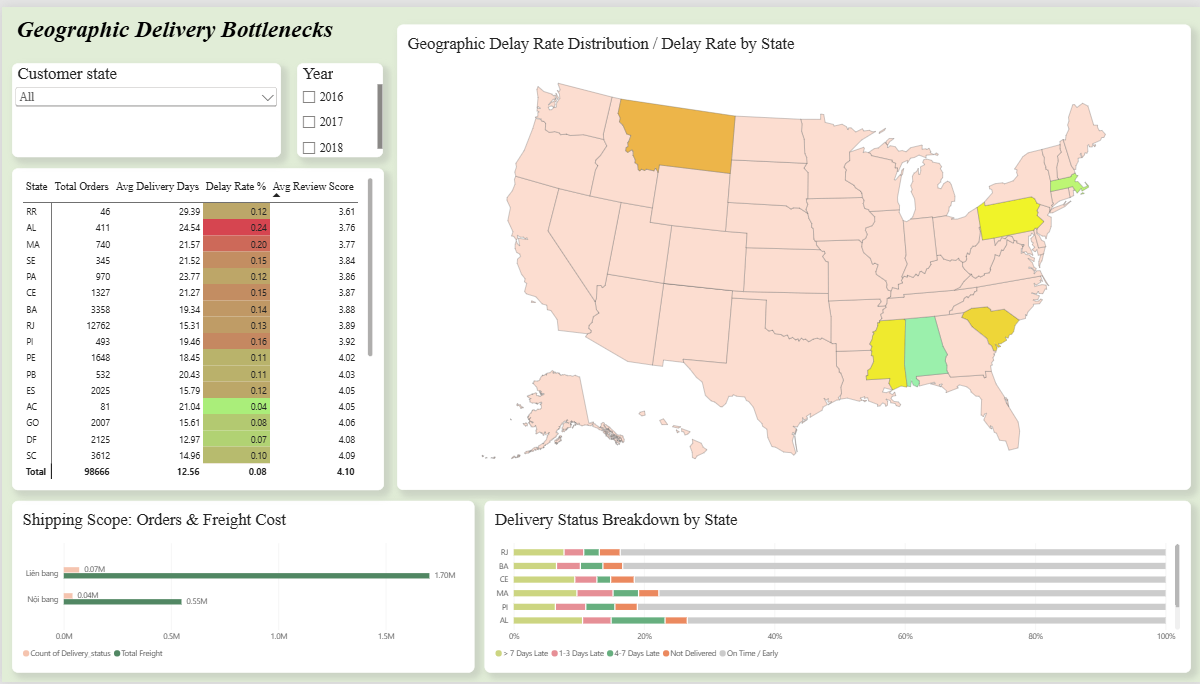

What the dashboard file says about the page in this screenshot:
{"tool":"powerbi","page":{"name":"2. Logistics & Geography","canvas":[1920,1080],"ordinal":1},"visuals":[{"type":"textbox","box":[14.3,14.3,595.9,57.1],"z":0},{"type":"shapeMap","title":"Geographic Delay Rate Distribution / Delay Rate by State","fields":{"Category":["dim_customers.customer_state"],"Value":["_Measures.Delay Rate %"]},"box":[632.5,27.5,1270,745],"z":1000},{"type":"clusteredBarChart","title":"Shipping Scope: Orders & Freight Cost","fields":{"Category":["fact_order_items.Delivery_status"],"Y":["CountNonNull(fact_order_items.Delivery_status)","_Measures.Total Freight"]},"box":[15,790,740,275],"z":2000},{"type":"pivotTable","fields":{"Rows":["dim_customers.customer_state"],"Values":["_Measures.Total Orders","_Measures.Avg Delivery Days","_Measures.Delay Rate %","_Measures.Avg Review Score"]},"box":[15,257.5,595,515],"z":3000},{"type":"hundredPercentStackedBarChart","title":"Delivery Status Breakdown by State","fields":{"Category":["dim_customers.customer_state"],"Series":["fact_order_items.delay_bucket"],"Y":["_Measures.Total Orders"]},"box":[772.5,790,1130,275],"z":4000},{"type":"slicer","fields":{"Values":["dim_date.year"]},"box":[472.5,90,137.5,150],"z":5000},{"type":"slicer","fields":{"Values":["dim_customers.customer_state"]},"box":[15,90,430,150],"z":6000}]}

Visuals, with their boxes in screenshot pixels (x1, y1, x2, y2), scaled from the page's 1920x1080 canvas onto the 1200x684 screenshot:
textbox: BBox(9, 9, 381, 45)
"Geographic Delay Rate Distribution / Delay Rate by State" shapeMap: BBox(395, 17, 1189, 489)
"Shipping Scope: Orders & Freight Cost" clusteredBarChart: BBox(9, 500, 472, 674)
pivotTable - dim_customers.customer_state x _Measures.Total Orders: BBox(9, 163, 381, 489)
"Delivery Status Breakdown by State" hundredPercentStackedBarChart: BBox(483, 500, 1189, 674)
slicer - dim_date.year: BBox(295, 57, 381, 152)
slicer - dim_customers.customer_state: BBox(9, 57, 278, 152)
